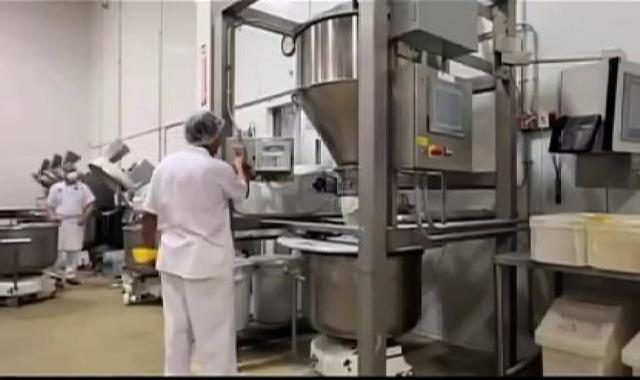hairnet: (183, 108, 236, 152)
